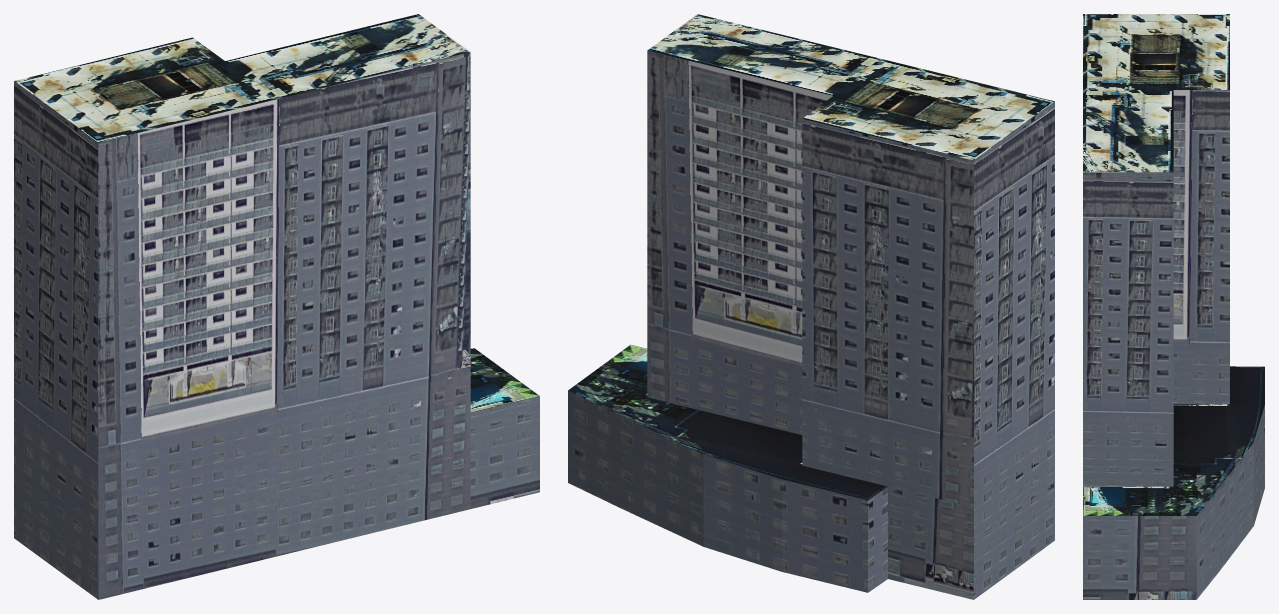
The model's file is Highrise7.gltf.
3 views of the same model, side by side, from view 1: azimuth 30°, elevation 25°; view 2: azimuth 150°, elevation 25°; view 3: azimuth 270°, elevation 25° (orthographic). The views are drawn at different scales.
Visible parts, largest first — view 1: Highrise7; view 2: Highrise7; view 3: Highrise7.
Part boxes in pixels (x1=…): Highrise7: x1=14, y1=14, x2=539, y2=599; Highrise7: x1=568, y1=14, x2=1054, y2=599; Highrise7: x1=1083, y1=14, x2=1264, y2=599.
Bounding box in the file's own units: 95.99 × 95 × 39.28.
Materials: 1 (1 with a texture image).
